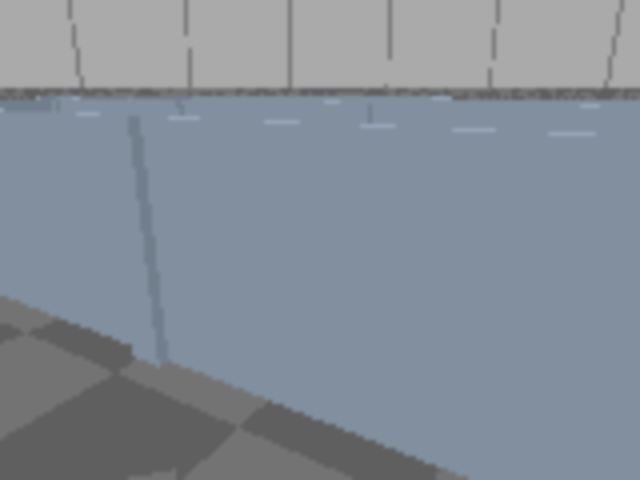obstacle: (0, 469, 192, 478)
